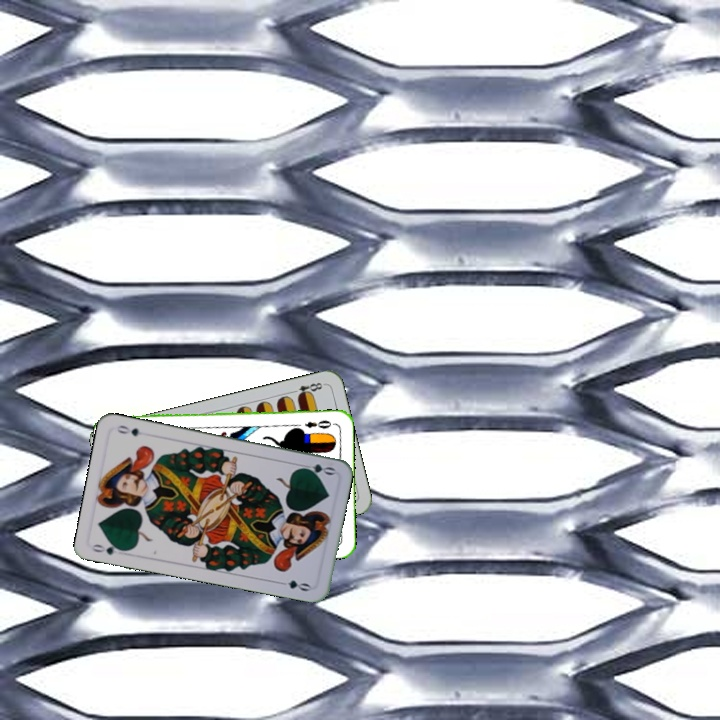E8: (287, 378, 327, 400)
EO: (301, 416, 337, 431)
GO: (296, 460, 337, 478), (88, 539, 129, 557)
